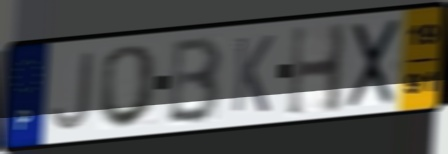B: (165, 33, 225, 126)
H: (285, 20, 351, 120)
J: (50, 48, 96, 133)
K: (229, 32, 276, 115)
O: (95, 42, 162, 131)
X: (344, 15, 403, 112)
